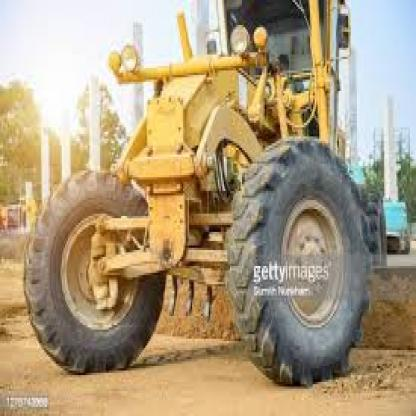bull_dozer/loader/grader: (20, 5, 376, 384)
